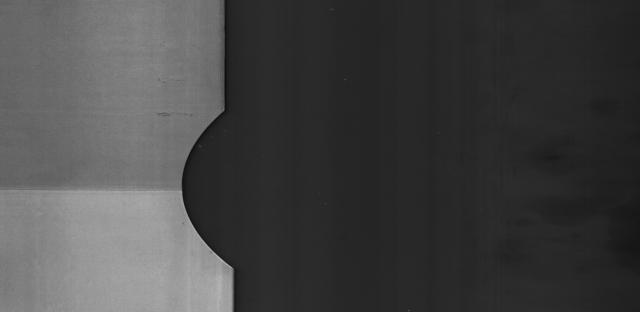crescent_gap: (174, 86, 272, 280)
welding_line: (0, 176, 201, 212)
